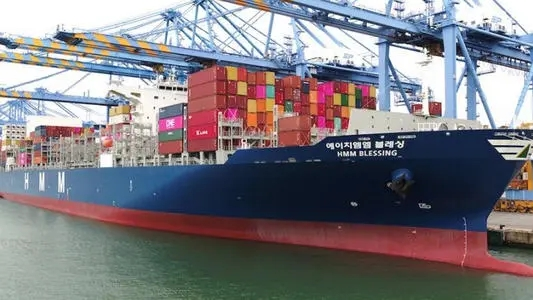Cargoship: (1, 59, 533, 275)
